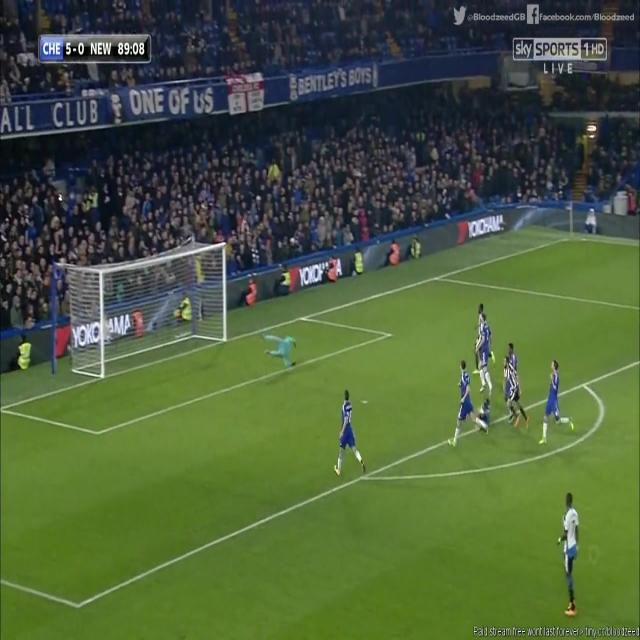Ball: (172, 306, 182, 322)
Goalkeeper: (262, 328, 298, 372)
Player: (449, 360, 492, 452), (535, 354, 578, 445), (558, 487, 584, 620), (333, 387, 367, 480), (479, 312, 496, 395)
Referee: (504, 359, 533, 430)
